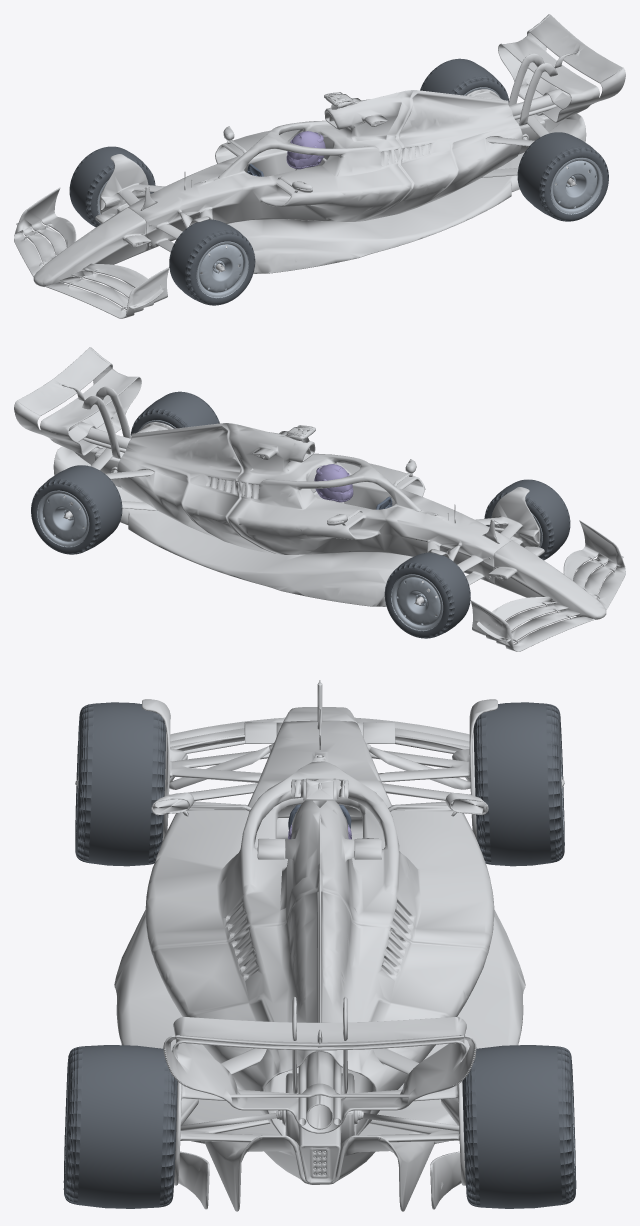
Rendered from formula-one.glb.
3 views of the same model, one above another, from view 1: azimuth 30°, elevation 25°; view 2: azimuth 150°, elevation 25°; view 3: azimuth 270°, elevation 25° (orthographic). The views are drawn at different scales.
Visible parts, largest first — view 1: Body, Rear Wheel Left tire, Front Wheel Left tire, Front Wheel Right tire, Rear Wheel Left rim, Front Wheel Left rim, Rear Wheel Right tire, Helmet; view 2: Body, Rear Wheel Right tire, Front Wheel Right tire, Front Wheel Left tire, Rear Wheel Right rim, Front Wheel Right rim, Rear Wheel Left tire, Helmet; view 3: Body, Rear Wheel Right tire, Rear Wheel Left tire, Front Wheel Left tire, Front Wheel Right tire.
Boxes of the visible parts, x1,y1,x2,y2 form: Body: (14, 14, 625, 318); Rear Wheel Left tire: (517, 132, 608, 221); Front Wheel Left tire: (169, 219, 255, 305); Front Wheel Right tire: (69, 146, 155, 227); Rear Wheel Left rim: (550, 157, 602, 214); Front Wheel Left rim: (196, 241, 248, 298); Rear Wheel Right tire: (420, 58, 508, 102); Helmet: (286, 131, 325, 169); Body: (14, 347, 625, 651); Rear Wheel Right tire: (31, 465, 122, 554); Front Wheel Right tire: (384, 552, 470, 638); Front Wheel Left tire: (484, 479, 570, 560); Rear Wheel Right rim: (37, 490, 89, 547); Front Wheel Right rim: (391, 574, 443, 631); Rear Wheel Left tire: (131, 391, 219, 435); Helmet: (314, 464, 353, 502); Body: (75, 680, 564, 1211); Rear Wheel Right tire: (462, 1045, 576, 1208); Rear Wheel Left tire: (63, 1045, 177, 1208); Front Wheel Left tire: (75, 702, 166, 866); Front Wheel Right tire: (473, 702, 564, 866).
Size of the model in its own units: 8.5 by 1.84 by 3.42.
